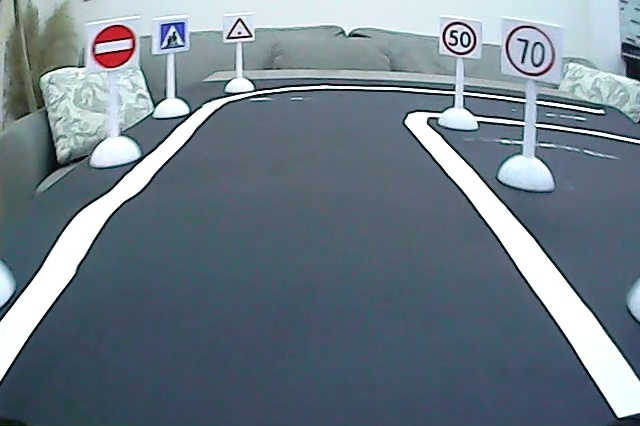do not enter: (90, 21, 138, 71)
green light: (225, 14, 254, 42)
school crossing: (158, 20, 188, 51)
speed limit 50: (440, 20, 478, 57)
speed limit 70: (502, 21, 561, 80)
